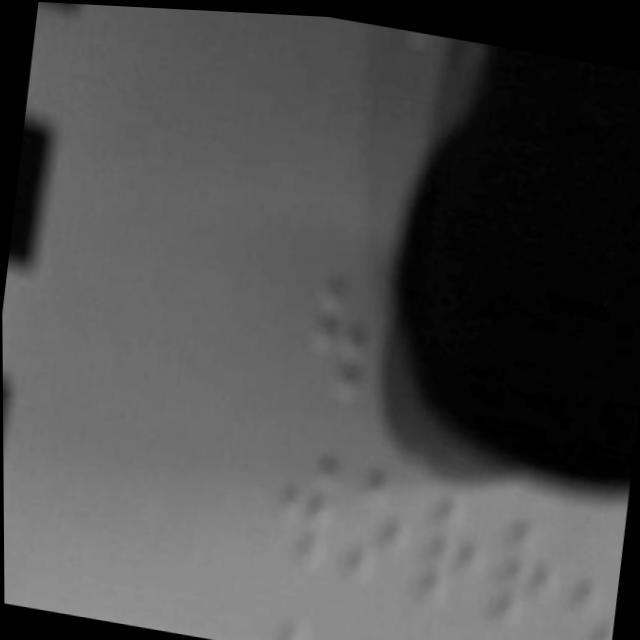braiile: (481, 484, 572, 635), (333, 450, 423, 595), (263, 425, 347, 579), (302, 254, 384, 407), (411, 461, 494, 609)
